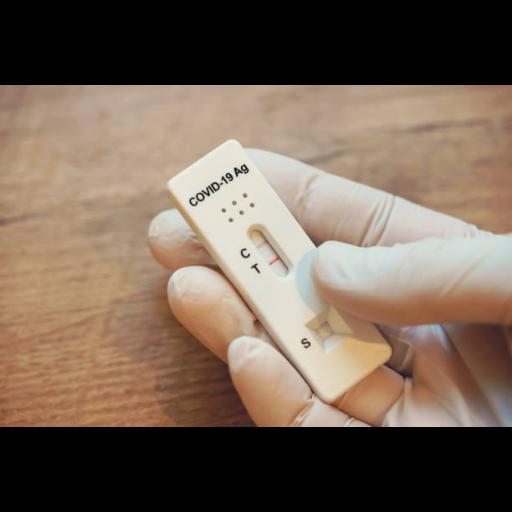Pos: (166, 136, 396, 404)
